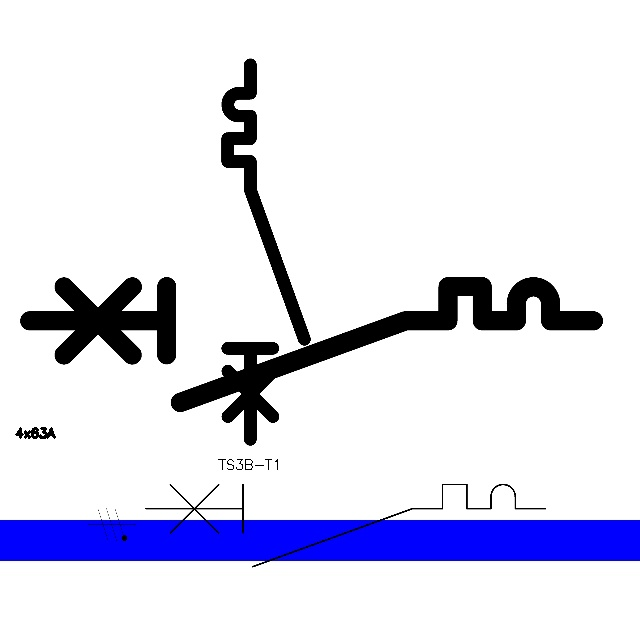interruptor_termomagnetico: (15, 272, 608, 417), (135, 474, 555, 577), (218, 55, 314, 449)
